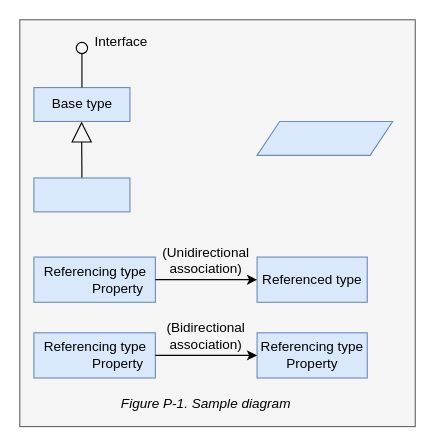
Image size: 435x446. Some labels were removed from this diagram. Each missing label, with the centre of its shape:
Abstract class: [324,137]
Subtype: [81,194]
